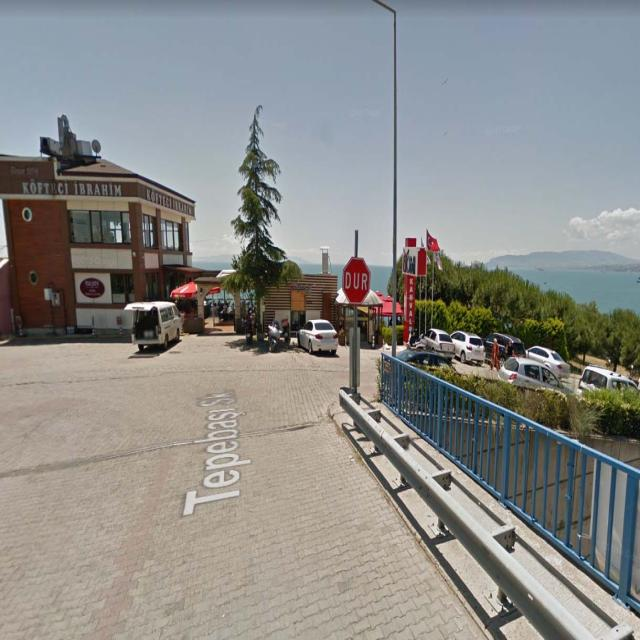dur: (343, 256, 370, 304)
